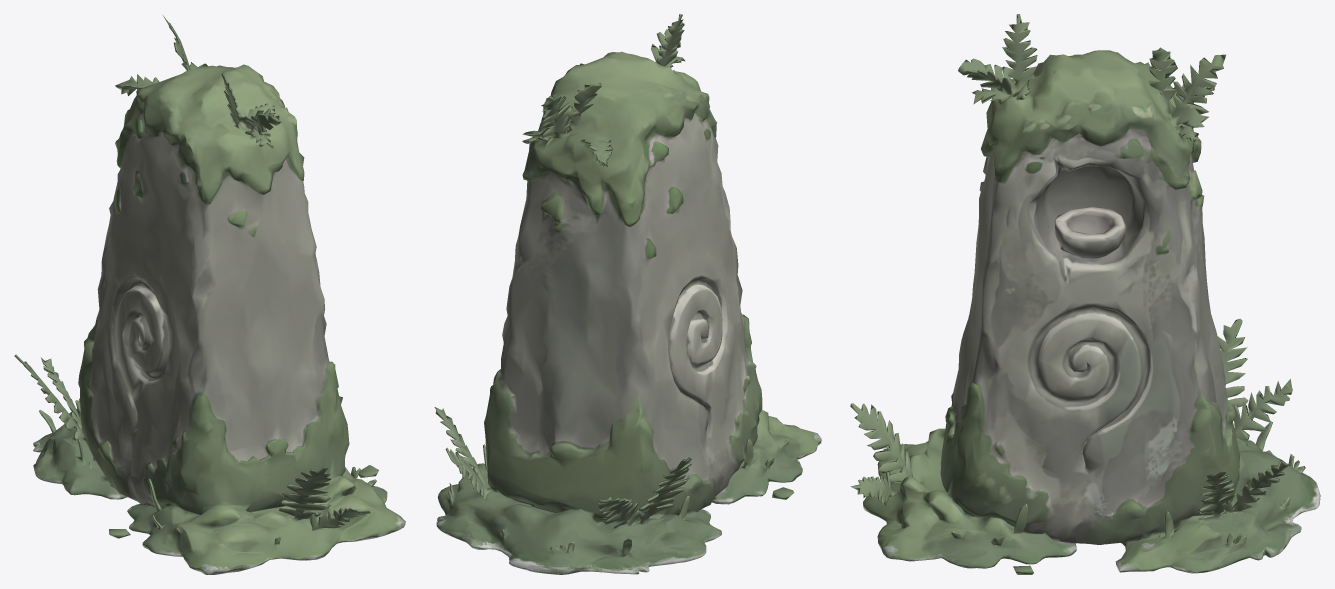
Rendered from waystone.glb.
The picture shows the model from 3 angles, left to right: view 1: azimuth 30°, elevation 25°; view 2: azimuth 150°, elevation 25°; view 3: azimuth 270°, elevation 25°; orthographic projection. The views are drawn at different scales.
Parts seen in each view (by area): view 1: tripo_node_23e6c58c-55a5-4f83-9028-f486ea6f76cf; view 2: tripo_node_23e6c58c-55a5-4f83-9028-f486ea6f76cf; view 3: tripo_node_23e6c58c-55a5-4f83-9028-f486ea6f76cf.
Part boxes in pixels (left/top/right/bottom): tripo_node_23e6c58c-55a5-4f83-9028-f486ea6f76cf: left=14, top=15, right=405, bottom=574; tripo_node_23e6c58c-55a5-4f83-9028-f486ea6f76cf: left=434, top=14, right=821, bottom=574; tripo_node_23e6c58c-55a5-4f83-9028-f486ea6f76cf: left=850, top=14, right=1320, bottom=574.
Bounding box in the file's own units: 0.6364 × 1 × 0.8872.
1 material, 1 textured.
